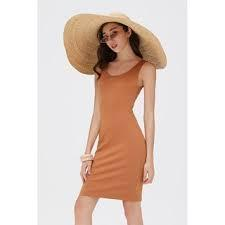dress: (82, 61, 155, 203)
